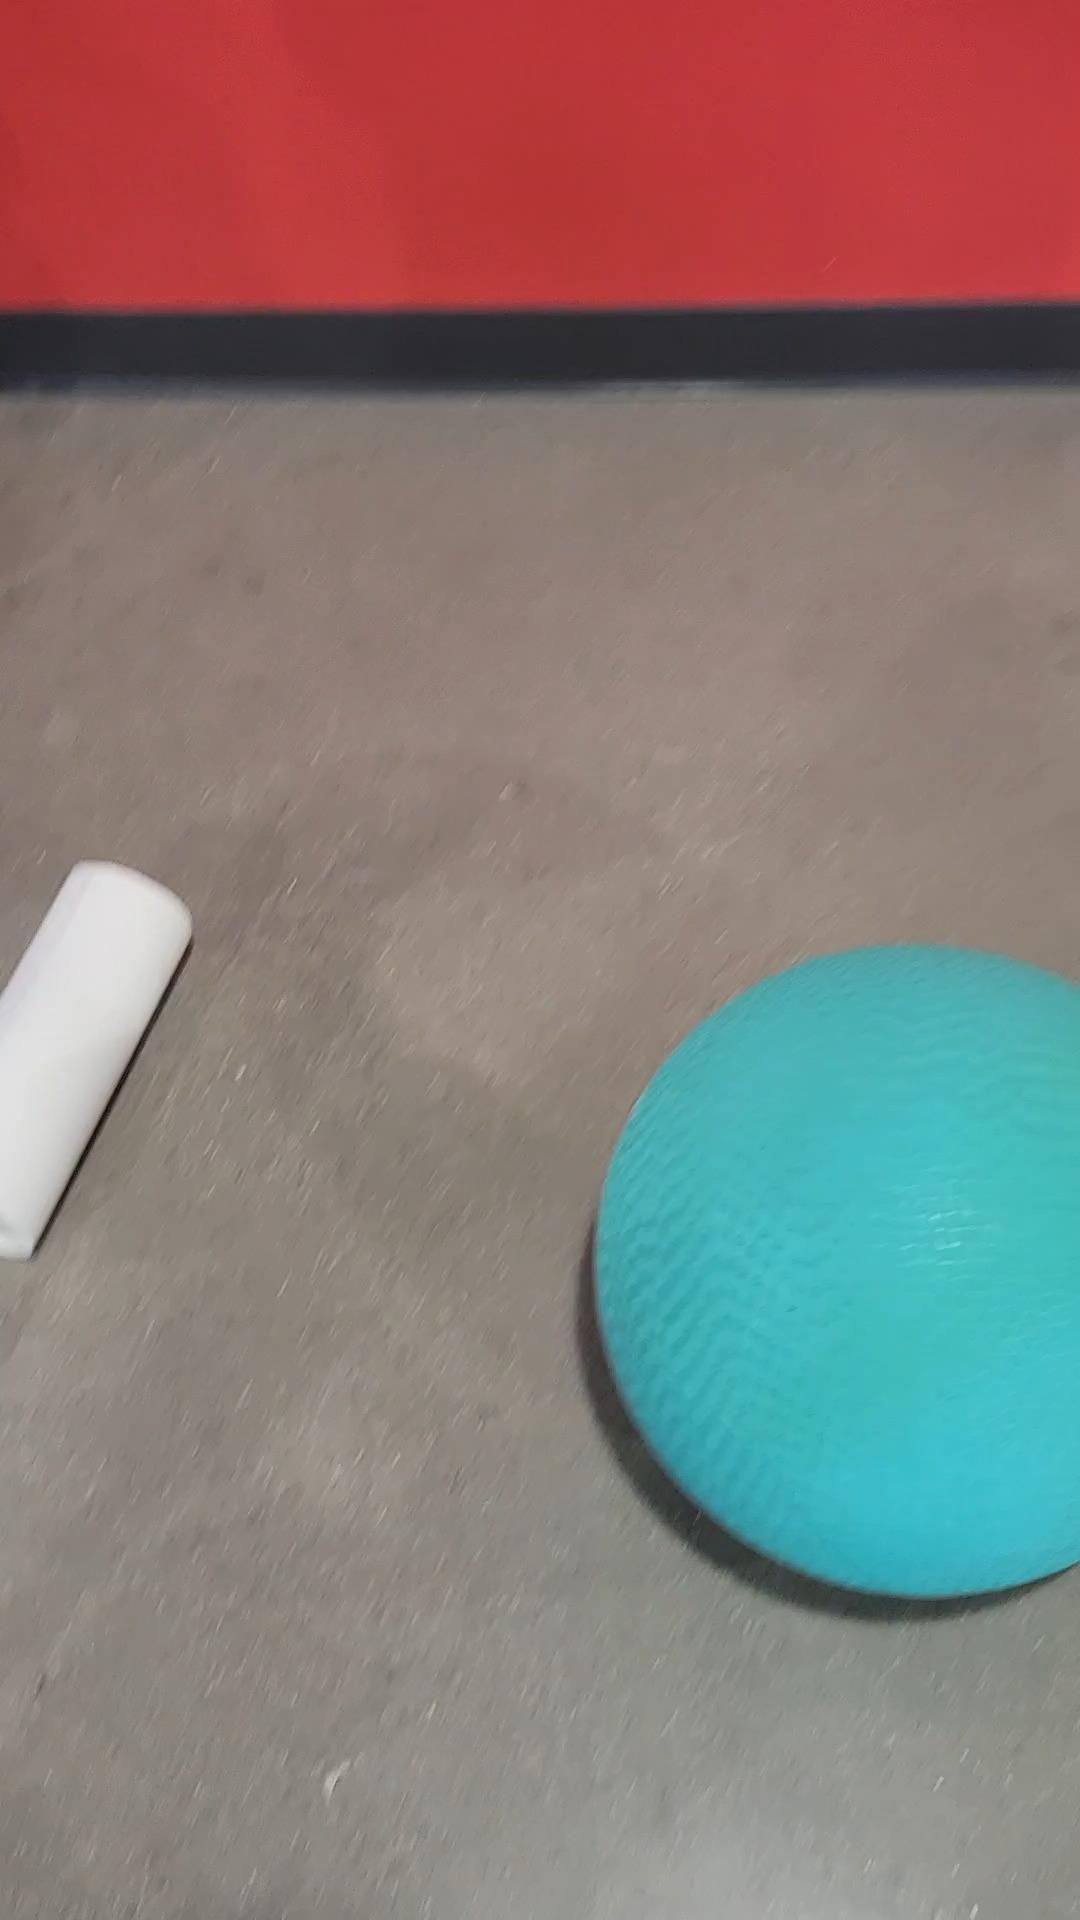algae: (512, 906, 1080, 1664)
coral: (0, 822, 274, 1257)
